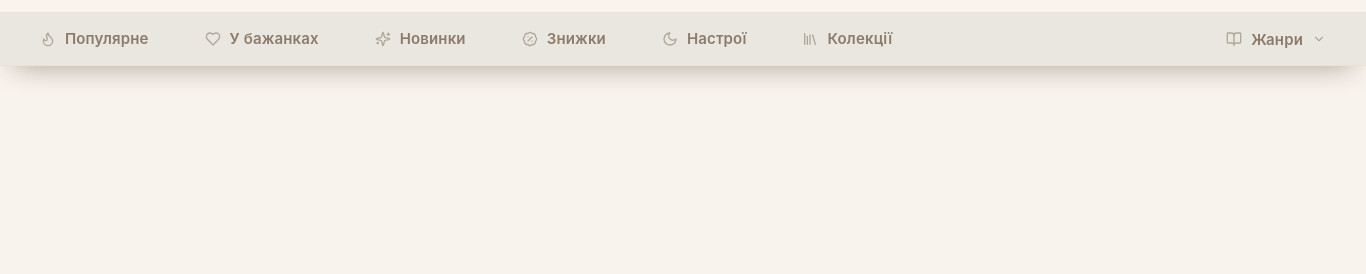
Test: CollectionsNav — desktop (>768px), unchanged › mega menu opens on click with text-only genre links (no icons)
Click the button "Жанри" at (1276, 39), box [1218,13,1334,65]
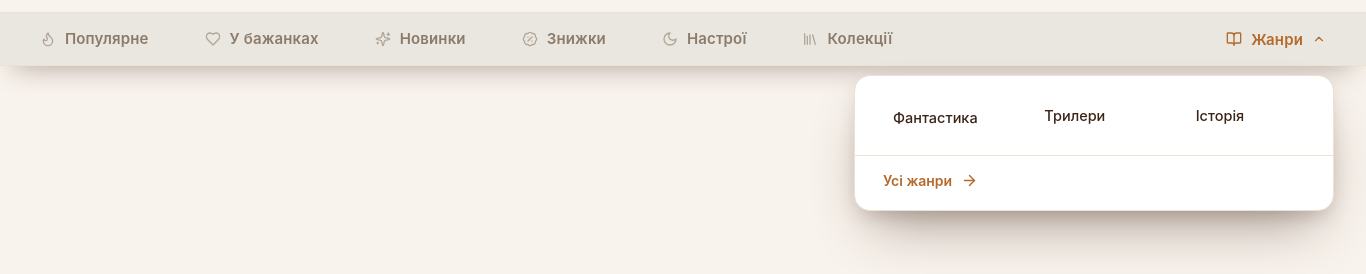
Result: the element with class "cnav__mega" is shown at [854,75,1334,211]
